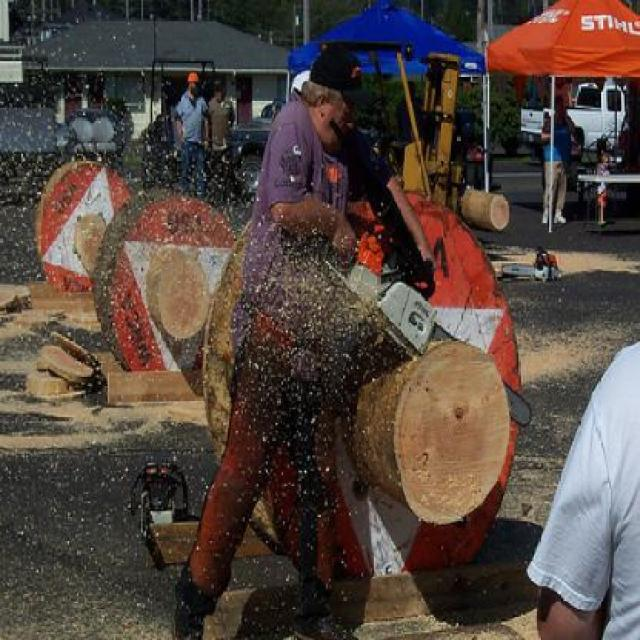Chainsaw: (329, 238, 534, 430)
